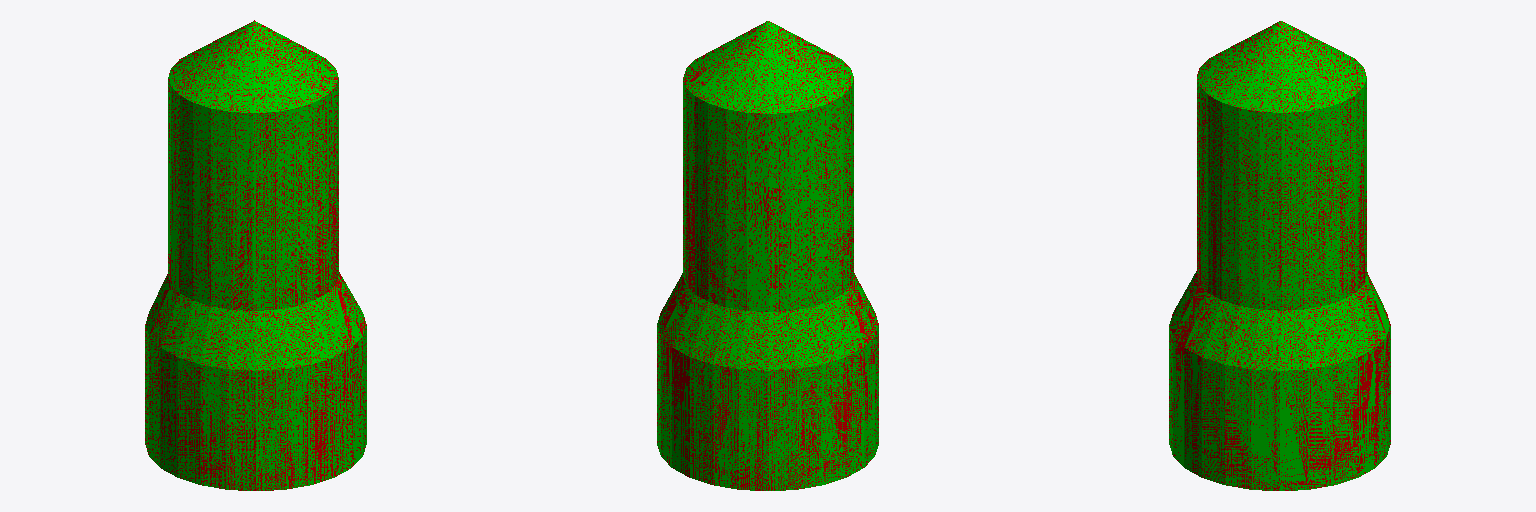
robot.urdf — green_buoy:
<robot name="green_buoy">
  <link name="green_buoy">
    <inertial>
      <origin xyz="-10 -5 0" />
      <mass value="10.0" />
      <inertia  ixx="1.0" ixy="0.0"  ixz="0.0"  iyy="100.0"  iyz="0.0"  izz="1.0" />
    </inertial>
    <visual>
      <origin xyz="-10 -5 -1"/>
      <geometry>
            <mesh filename="package://robotx_description/meshes/green_buoy_marker.dae" scale="1 1 1" />
      </geometry>
    </visual>
    <collision>
      <origin xyz="-10 -5 0"/>
      <geometry>
        <cylinder length="2" radius="0.5" />
      </geometry>
    </collision>
  </link>
  <gazebo reference="green_buoy">
    <material>Gazebo/Green</material>
  </gazebo>
</robot>

--- Facts derived from the render (not from the file) ---
Views: 3 orthographic renders of the robot side by side, from view 1: azimuth 30°, elevation 25°; view 2: azimuth 150°, elevation 25°; view 3: azimuth 270°, elevation 25°.
Model green_buoy with 1 links and 0 joints (none), rooted at green_buoy, posed every joint at zero.
Links seen in each view (by area): view 1: green_buoy; view 2: green_buoy; view 3: green_buoy.
Boxes of the visible links, left/top/right/bottom form: green_buoy: left=145, top=20, right=366, bottom=490; green_buoy: left=657, top=21, right=878, bottom=490; green_buoy: left=1169, top=21, right=1390, bottom=490.
Bounding box of the posed robot: 0.9398 × 0.9398 × 1.99 m (x, y, z).
1 mesh visuals loaded from 1 distinct referenced files (1 Collada DAE).